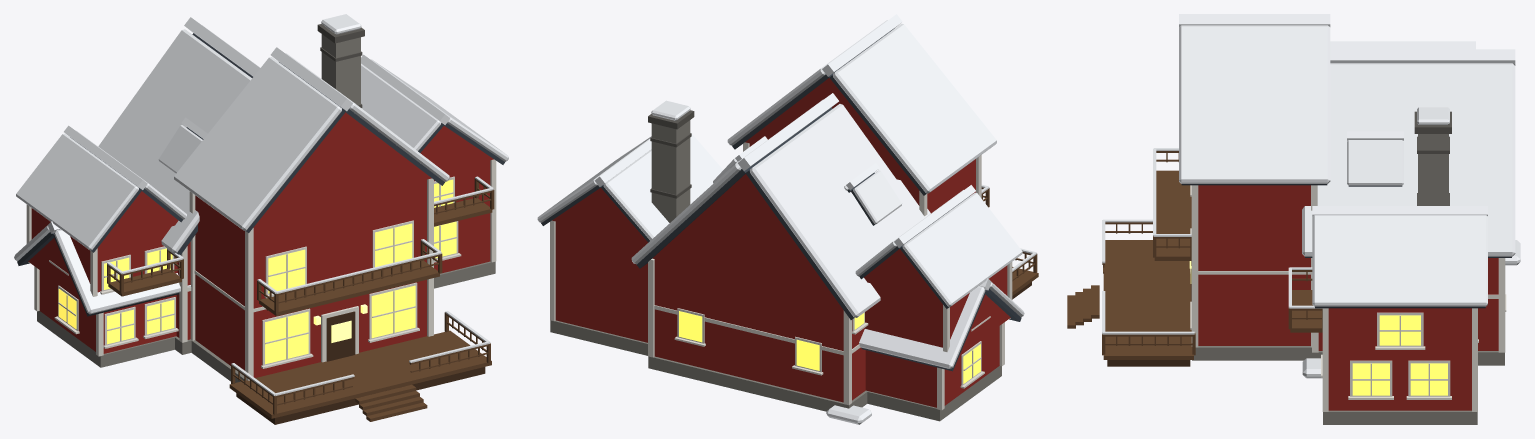
The model's file is lodge-tier-2.glb.
3 renders of one model, left to right at view 1: azimuth 30°, elevation 25°; view 2: azimuth 150°, elevation 25°; view 3: azimuth 270°, elevation 25°, orthographic. The views are drawn at different scales.
Parts seen in each view (by area): view 1: lodge-tier-2; view 2: lodge-tier-2; view 3: lodge-tier-2.
Part boxes in pixels (x1,y1,x2,y2): lodge-tier-2: [14, 14, 508, 424]; lodge-tier-2: [537, 14, 1038, 424]; lodge-tier-2: [1067, 14, 1520, 424].
Size of the model in its own units: 25.15 by 15.95 by 21.85.
